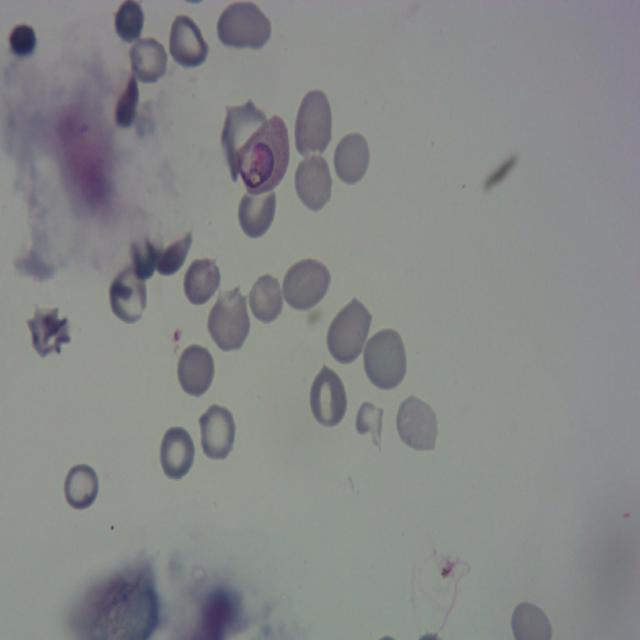leukocyte: (218, 100, 269, 182), (325, 298, 373, 366), (206, 286, 252, 354), (362, 326, 409, 392), (392, 392, 444, 451), (292, 87, 334, 159), (279, 256, 331, 313), (217, 0, 274, 50), (306, 365, 349, 431), (235, 177, 279, 241), (166, 12, 210, 72), (292, 151, 334, 213), (27, 304, 70, 361), (108, 264, 146, 328), (157, 423, 197, 483), (175, 342, 216, 400), (331, 130, 372, 187), (125, 34, 168, 88), (61, 460, 101, 515), (245, 273, 284, 327), (182, 256, 224, 304), (201, 405, 235, 459), (355, 400, 386, 448), (114, 0, 146, 41), (7, 22, 38, 62)
schizont: (236, 113, 291, 194)
